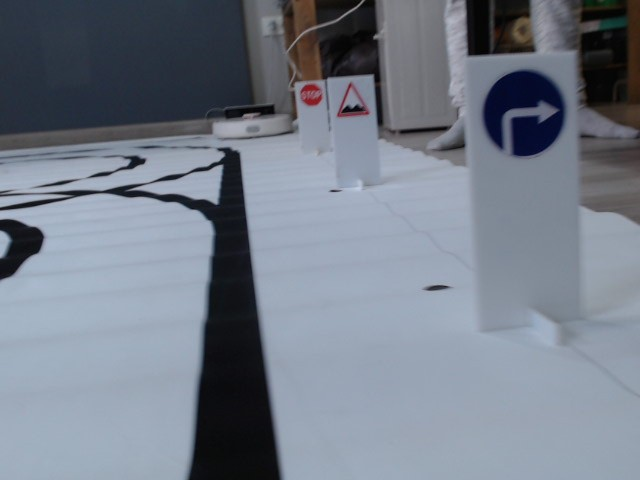Nerov: (333, 80, 372, 117)
Right: (482, 68, 566, 159)
